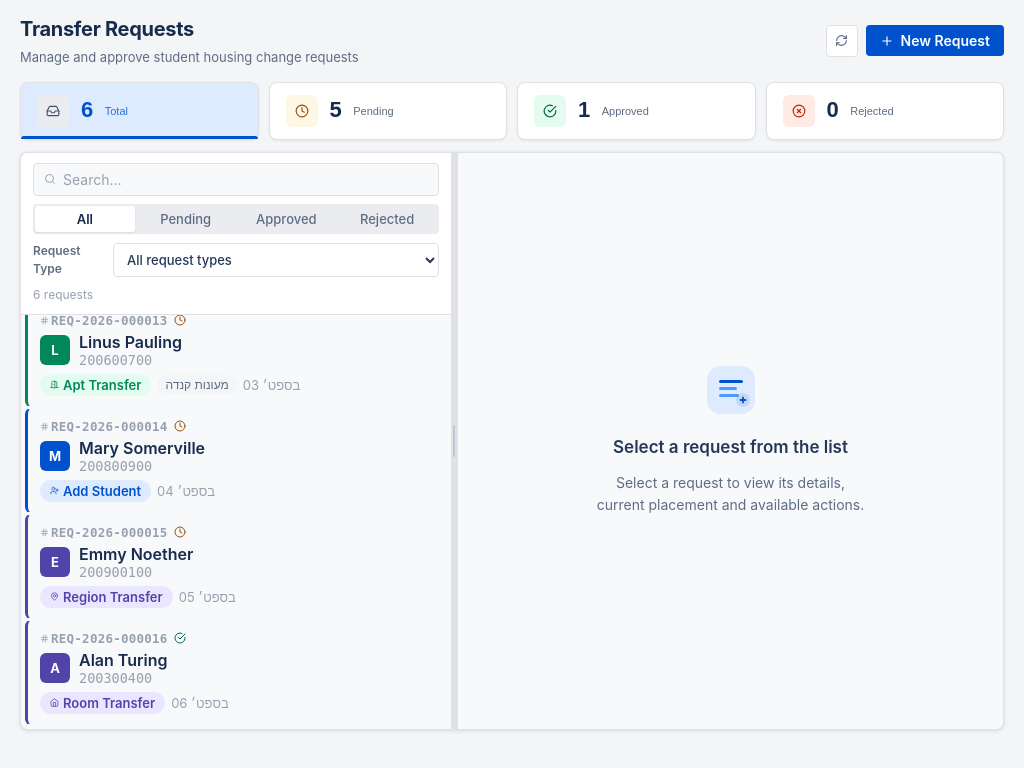
Scenario: TransfersPage request details › shows the final placement and the placement history of an approved request
(page scrolled)
Click the button "Alan Turing": (109, 638) x1=25 y1=620 x2=447 y2=724
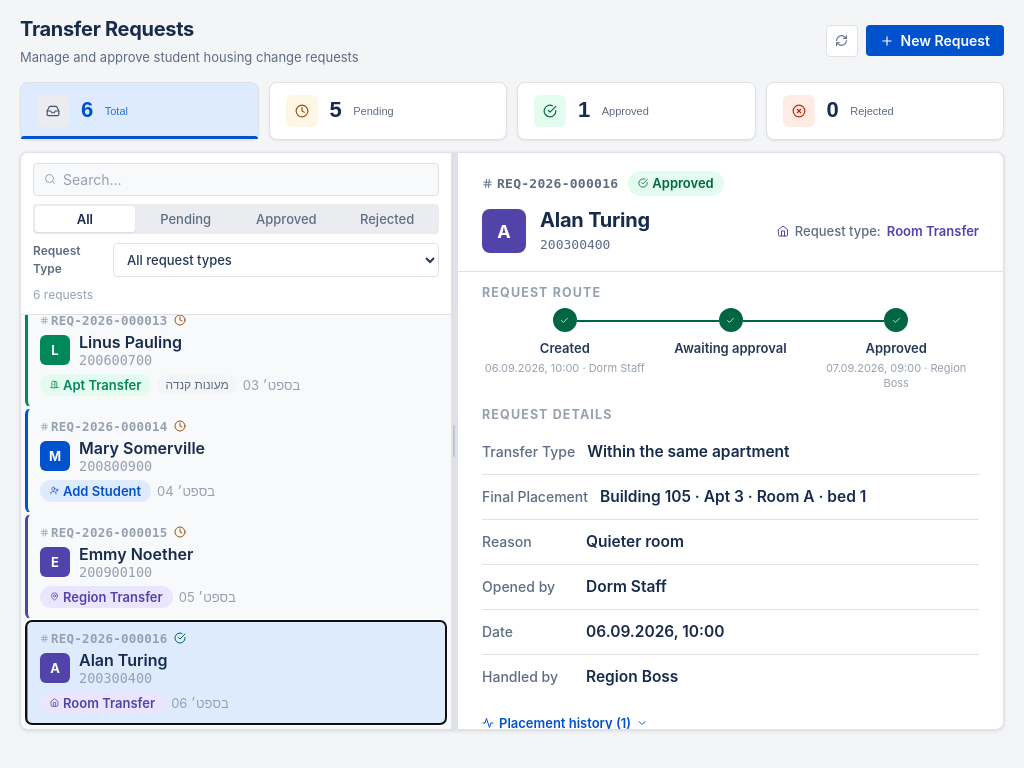
Expected: the heading "Alan Turing" is shown, x1=540 y1=208 x2=650 y2=232
Expected: the text "Building 105 · Apt 3 · Room A · bed 1" is shown, x1=600 y1=485 x2=866 y2=509
Expected: the text "Region Boss" is shown, x1=586 y1=665 x2=678 y2=689
Click the button "Placement history (1)": (565, 723) x1=482 y1=715 x2=648 y2=731
(page scrolled)
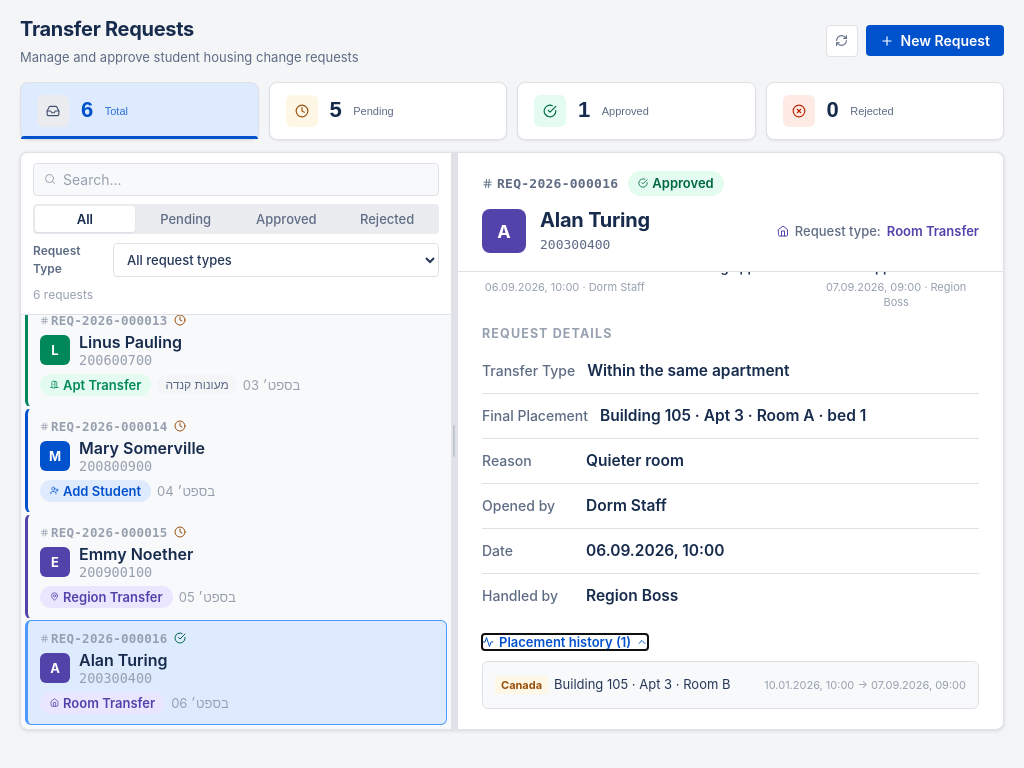
Expected: the button "Placement history (1)" is expanded, x1=482 y1=634 x2=648 y2=650
Expected: the text "Canada" is shown, x1=495 y1=676 x2=548 y2=694
Expected: the text "Building 105 · Apt 3 · Room B" is shown, x1=554 y1=675 x2=730 y2=695
